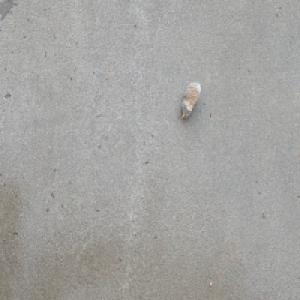Rock: (179, 79, 200, 121)
